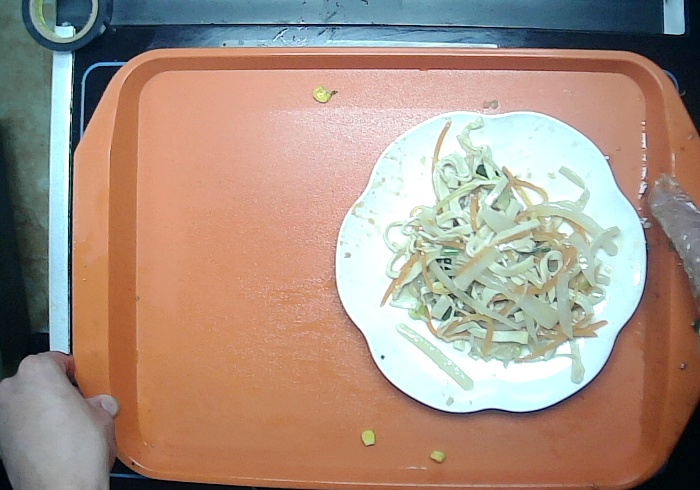HZYJPL-Bai_Se_Hua_Duo_Wan: (333, 109, 648, 416)
